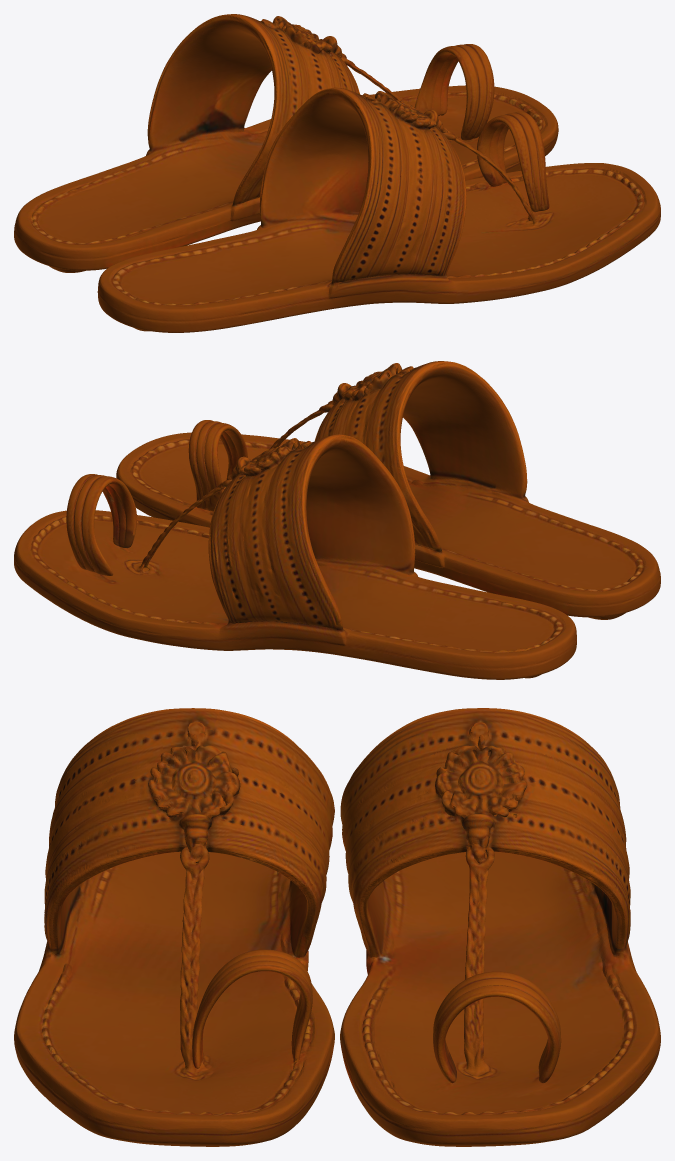
The model's file is kolhapuriChappal.glb.
3 views of the same model, one above another, from view 1: azimuth 30°, elevation 25°; view 2: azimuth 150°, elevation 25°; view 3: azimuth 270°, elevation 25° (orthographic). The views are drawn at different scales.
Visible parts, largest first — view 1: tripo_node_ed74d0a6-6c4d-466e-8a22-ce51a771a604; view 2: tripo_node_ed74d0a6-6c4d-466e-8a22-ce51a771a604; view 3: tripo_node_ed74d0a6-6c4d-466e-8a22-ce51a771a604.
Boxes of the visible parts, left/top/right/bottom form: tripo_node_ed74d0a6-6c4d-466e-8a22-ce51a771a604: left=14, top=14, right=660, bottom=332; tripo_node_ed74d0a6-6c4d-466e-8a22-ce51a771a604: left=14, top=361, right=660, bottom=679; tripo_node_ed74d0a6-6c4d-466e-8a22-ce51a771a604: left=14, top=708, right=660, bottom=1146.
Bounding box in the file's own units: 1 × 0.3423 × 0.7615.
Materials: 1 (1 with a texture image).
